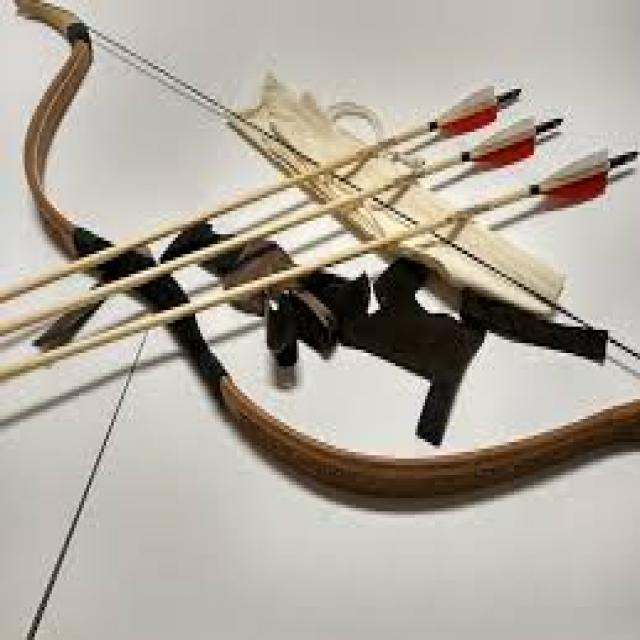X-Bow: (0, 0, 640, 512)
